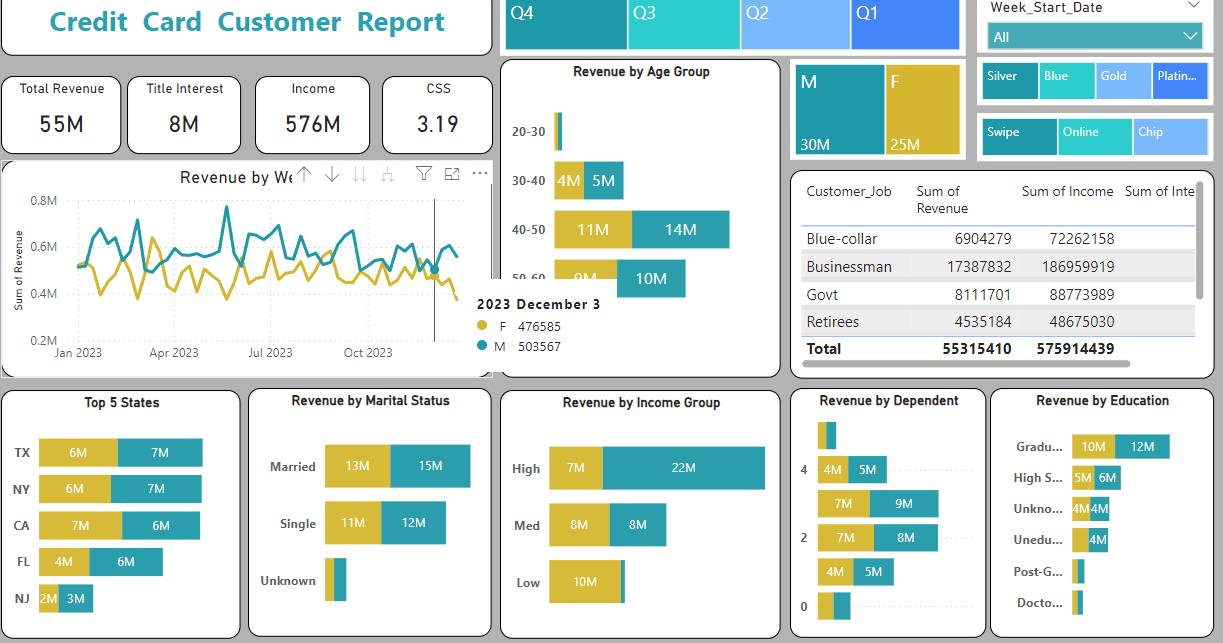

Layout of this report page (visuals, bound fields, positions):
{"tool":"powerbi","page":{"name":"CC Customer","canvas":[1280,720],"ordinal":2},"visuals":[{"type":"textbox","box":[9.2,24.2,478.3,62.5],"z":0},{"type":"barChart","title":"Revenue by Income Group ","fields":{"Y":["Sum(credit_card.Revenue)"],"Category":["customer.IncomeGroup"],"Series":["customer.Gender"]},"box":[494.2,412.5,273.3,241.7],"z":1000},{"type":"tableEx","fields":{"Values":["customer.Customer_Job","Sum(credit_card.Revenue)","Sum(customer.Income)","Sum(credit_card.Interest_Earned)"]},"box":[775.8,198.3,412.5,202.5],"z":2000},{"type":"slicer","fields":{"Values":["credit_card.Week_Start_Date"]},"box":[958.3,26.7,230,57.5],"z":3000},{"type":"treemap","fields":{"Group":["credit_card.Qtr"],"Values":["Avg(credit_card.Client_Num)"]},"box":[494.2,24.2,452.5,62.5],"z":4000},{"type":"treemap","fields":{"Group":["credit_card.Card_Category"],"Values":["Avg(credit_card.Client_Num)"]},"box":[958.3,88.3,230,46.7],"z":6000},{"type":"card","title":"Total Revenue","fields":{"Values":["Sum(credit_card.Revenue)"]},"box":[9.2,106.7,116.7,75.8],"z":8000},{"type":"card","title":"Income","fields":{"Values":["Sum(customer.Income)"]},"box":[255.8,106.7,111.7,75.8],"z":9000},{"type":"card","title":"Title Interest","fields":{"Values":["Sum(credit_card.Interest_Earned)"]},"box":[131.7,106.7,110.8,75.8],"z":10000},{"type":"card","title":"CSS","fields":{"Values":["Avg(customer.Cust_Satisfaction_Score)"]},"box":[379.2,106.7,108.3,75.8],"z":11000},{"type":"lineChart","title":"Revenue by Week","fields":{"Y":["Sum(credit_card.Revenue)"],"Series":["customer.Gender"],"Category":["credit_card.Week_Start_Date.Variation.Date Hierarchy.Year","credit_card.Week_Start_Date.Variation.Date Hierarchy.Month","credit_card.Week_Start_Date.Variation.Date Hierarchy.Day"]},"box":[9.2,189.2,478.3,211.7],"z":12000},{"type":"treemap","fields":{"Group":["customer.Gender"],"Values":["Sum(credit_card.Revenue)"]},"box":[775.8,90.8,170.8,98.3],"z":13000},{"type":"barChart","title":"Revenue by Age Group","fields":{"Y":["Sum(credit_card.Revenue)"],"Category":["customer.AgeGroup"],"Series":["customer.Gender"]},"box":[494.2,90.8,273.3,310],"z":15000},{"type":"barChart","title":"Revenue by Dependent","fields":{"Y":["Sum(credit_card.Revenue)"],"Category":["customer.Dependent_Count"],"Series":["customer.Gender"]},"box":[775.8,410.8,190.8,243.3],"z":16000},{"type":"barChart","title":"Revenue by Education","fields":{"Y":["Sum(credit_card.Revenue)"],"Category":["customer.Education_Level"],"Series":["customer.Gender"]},"box":[970.8,410.8,217.5,243.3],"z":17000},{"type":"barChart","title":"Top 5 States","fields":{"Y":["Sum(credit_card.Revenue)"],"Category":["customer.state_cd"],"Series":["customer.Gender"]},"box":[9.2,412.5,233.3,241.7],"z":18000},{"type":"barChart","title":"Revenue by Marital Status","fields":{"Y":["Sum(credit_card.Revenue)"],"Category":["customer.Marital_Status"],"Series":["customer.Gender"]},"box":[249.2,410.8,236.7,241.7],"z":18001},{"type":"treemap","fields":{"Group":["credit_card.Use Chip"],"Values":["Avg(credit_card.Client_Num)"]},"box":[958.3,142.5,230,46.7],"z":18002}]}

Visuals, with their boxes on the page's 1280x720 design canvas (x1, y1, x2, y2). These are canvas units, not pixel positions in the 1223x643 screenshot, which may show the page scaled, cropped or inside an application window:
textbox: {"x1": 9, "y1": 24, "x2": 488, "y2": 87}
"Revenue by Income Group " barChart: {"x1": 494, "y1": 412, "x2": 768, "y2": 654}
tableEx - customer.Customer_Job x Sum(credit_card.Revenue): {"x1": 776, "y1": 198, "x2": 1188, "y2": 401}
slicer - credit_card.Week_Start_Date: {"x1": 958, "y1": 27, "x2": 1188, "y2": 84}
treemap - credit_card.Qtr x Avg(credit_card.Client_Num): {"x1": 494, "y1": 24, "x2": 947, "y2": 87}
treemap - credit_card.Card_Category x Avg(credit_card.Client_Num): {"x1": 958, "y1": 88, "x2": 1188, "y2": 135}
"Total Revenue" card: {"x1": 9, "y1": 107, "x2": 126, "y2": 182}
"Income" card: {"x1": 256, "y1": 107, "x2": 368, "y2": 182}
"Title Interest" card: {"x1": 132, "y1": 107, "x2": 242, "y2": 182}
"CSS" card: {"x1": 379, "y1": 107, "x2": 488, "y2": 182}
"Revenue by Week" lineChart: {"x1": 9, "y1": 189, "x2": 488, "y2": 401}
treemap - customer.Gender x Sum(credit_card.Revenue): {"x1": 776, "y1": 91, "x2": 947, "y2": 189}
"Revenue by Age Group" barChart: {"x1": 494, "y1": 91, "x2": 768, "y2": 401}
"Revenue by Dependent" barChart: {"x1": 776, "y1": 411, "x2": 967, "y2": 654}
"Revenue by Education" barChart: {"x1": 971, "y1": 411, "x2": 1188, "y2": 654}
"Top 5 States" barChart: {"x1": 9, "y1": 412, "x2": 242, "y2": 654}
"Revenue by Marital Status" barChart: {"x1": 249, "y1": 411, "x2": 486, "y2": 652}
treemap - credit_card.Use Chip x Avg(credit_card.Client_Num): {"x1": 958, "y1": 142, "x2": 1188, "y2": 189}
